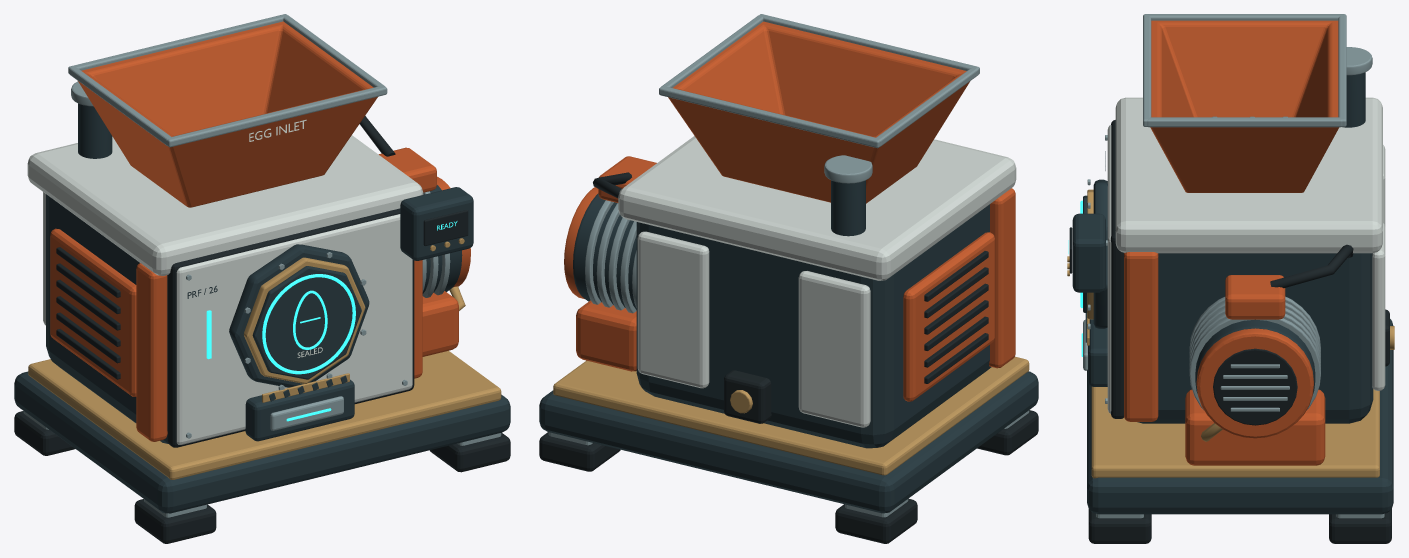
Rendered from SM_PRF_EggResourceProcessor.fbx.
3 views of the same model, side by side, from view 1: azimuth 30°, elevation 25°; view 2: azimuth 150°, elevation 25°; view 3: azimuth 270°, elevation 25° (orthographic).
Parts seen in each view (by area): view 1: SM_PRF_EggResourceProcessor, SM_PRF_EggResourceProcessor_Status; view 2: SM_PRF_EggResourceProcessor; view 3: SM_PRF_EggResourceProcessor.
Part boxes in pixels (box(x1,y1,x2,y2)): SM_PRF_EggResourceProcessor: box(14, 14, 510, 543); SM_PRF_EggResourceProcessor_Status: box(206, 221, 457, 421); SM_PRF_EggResourceProcessor: box(539, 14, 1038, 543); SM_PRF_EggResourceProcessor: box(1067, 14, 1394, 543).
Size of what is drawn, in the model's own units: 2.83 by 2.18 by 2.78.
